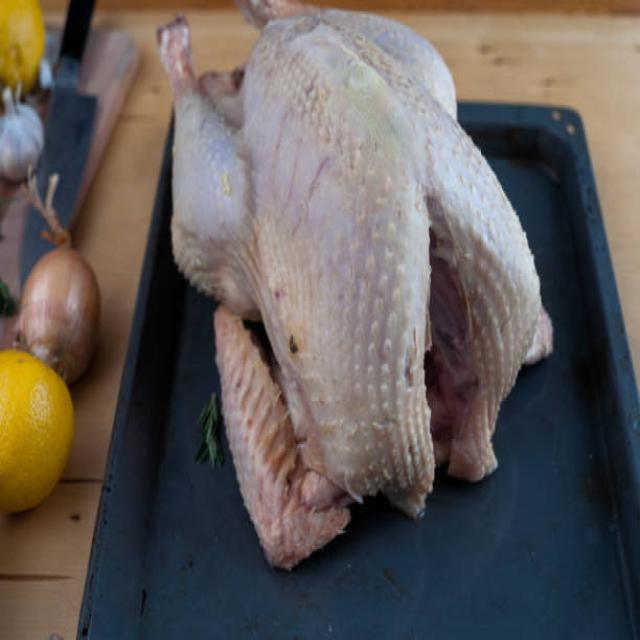Chicken: (141, 0, 564, 588)
